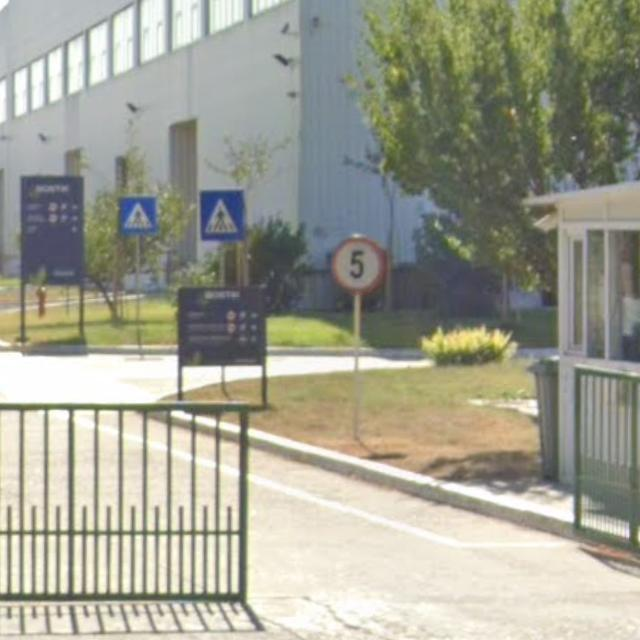info_crosswalk: (199, 190, 245, 242), (119, 197, 157, 235)
